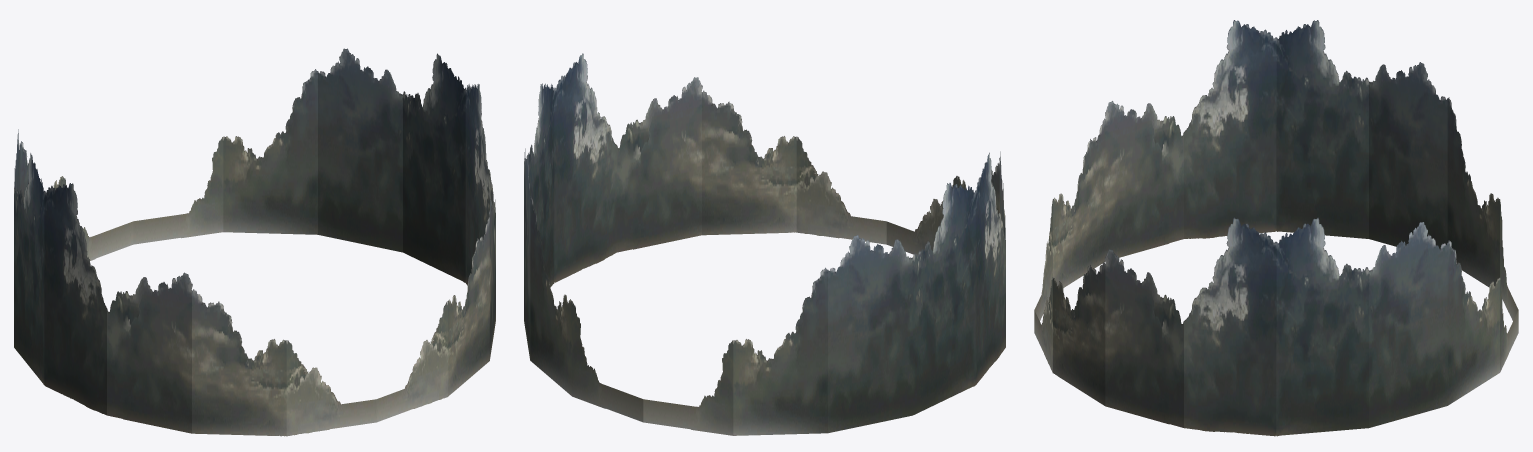
File: sky_clouds.fbx
The picture shows the model from 3 angles, left to right: view 1: azimuth 30°, elevation 25°; view 2: azimuth 150°, elevation 25°; view 3: azimuth 270°, elevation 25°; orthographic projection.
Visible parts, largest first — view 1: Cylinder; view 2: Cylinder; view 3: Cylinder.
Part boxes in pixels (x1,y1,x2,y2): Cylinder: (14, 48, 495, 436); Cylinder: (524, 53, 1005, 435); Cylinder: (1034, 20, 1518, 436).
Bounding box in the file's own units: 400 × 200 × 400.
